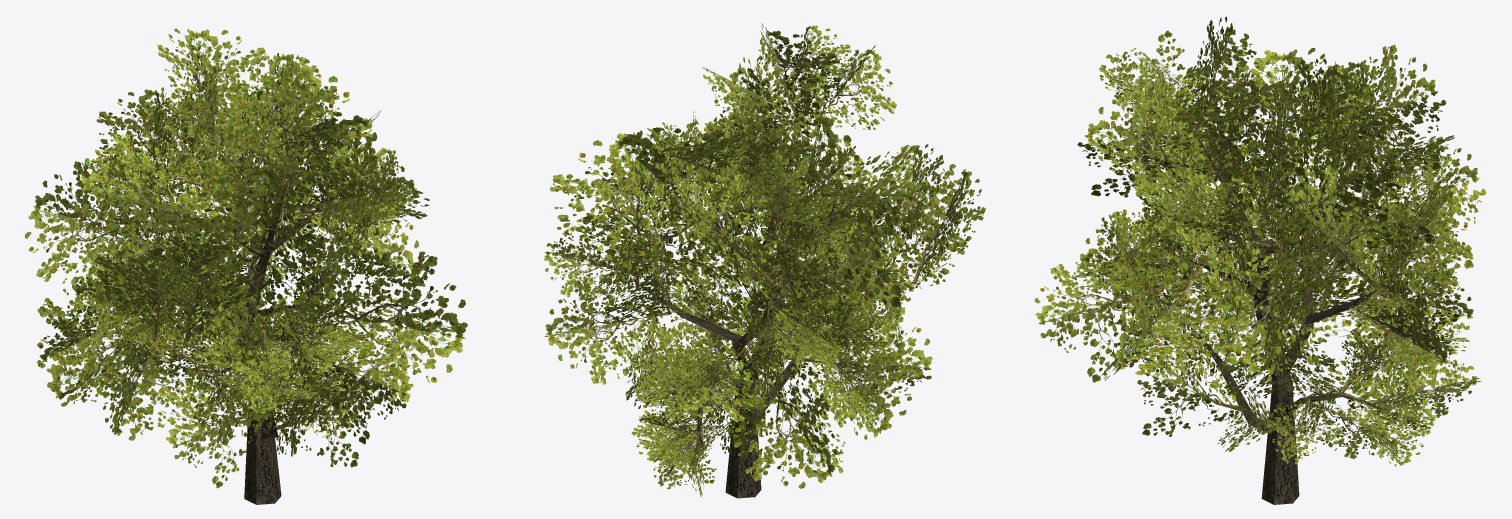
File: tree_m.FBX
3 views of the same model, side by side, from view 1: azimuth 30°, elevation 25°; view 2: azimuth 150°, elevation 25°; view 3: azimuth 270°, elevation 25° (orthographic). The views are drawn at different scales.
Parts seen in each view (by area): view 1: tree_m; view 2: tree_m; view 3: tree_m.
Boxes of the visible parts, x1,y1,x2,y2 form: tree_m: [25, 28, 467, 504]; tree_m: [543, 23, 985, 498]; tree_m: [1034, 16, 1486, 504].
Bounding box in the file's own units: 15.75 × 18.86 × 16.88.
2 materials, 2 textured.
